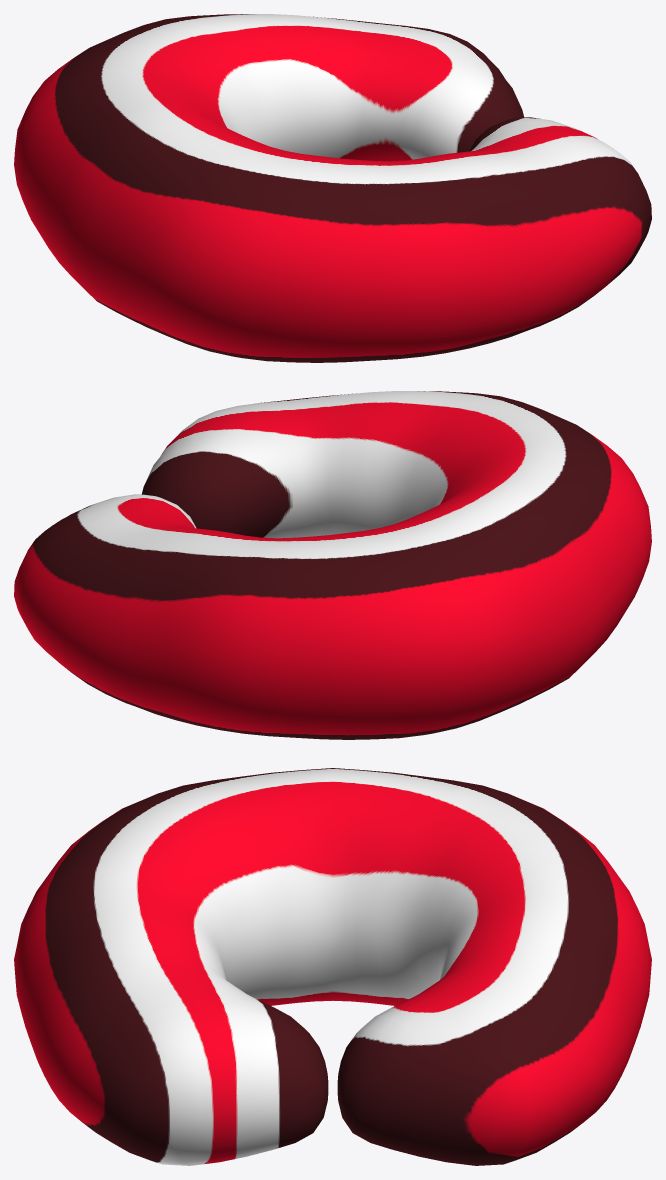
File: TRAVEL PILLOW.fbx
3 views of the same model, one above another, from view 1: azimuth 30°, elevation 25°; view 2: azimuth 150°, elevation 25°; view 3: azimuth 270°, elevation 25° (orthographic). The views are drawn at different scales.
Visible parts, largest first — view 1: PM3D_ZSphere1; view 2: PM3D_ZSphere1; view 3: PM3D_ZSphere1.
Boxes of the visible parts, box(x1,y1,x2,y2) form: PM3D_ZSphere1: box(14, 14, 651, 362); PM3D_ZSphere1: box(14, 391, 651, 739); PM3D_ZSphere1: box(14, 768, 651, 1165).
Size of the model in its own units: 0.4137 by 0.1592 by 0.4373.
Materials: 1 (1 with a texture image).
